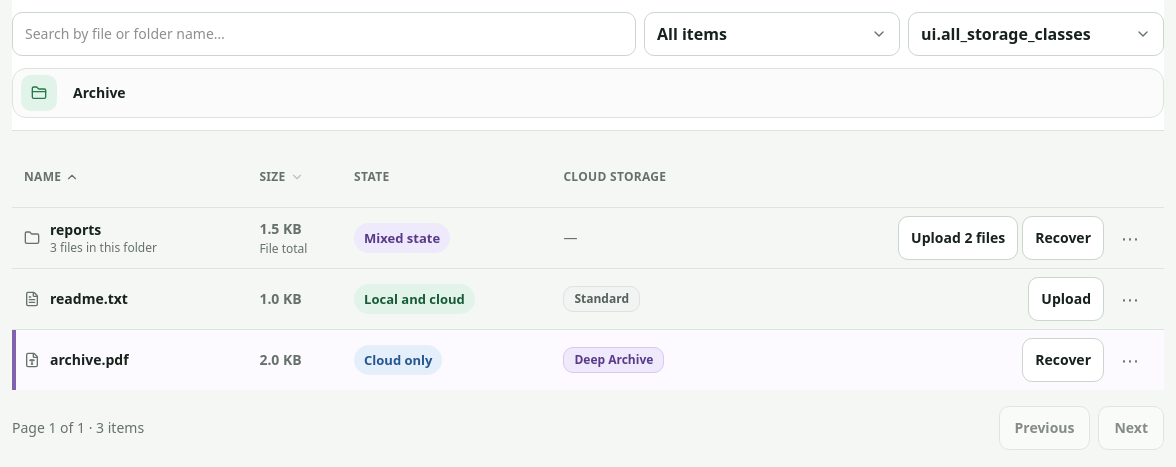
Test: File operations — seams 1–10 › seam 10: operation error surfaces the localized message and leaves the row usable
Expected: the element with test id "desktop-actions-readme.txt" is shown, [1028,277,1152,321]
Click the button "Upload" at (1066, 299), box [1028,277,1104,321]
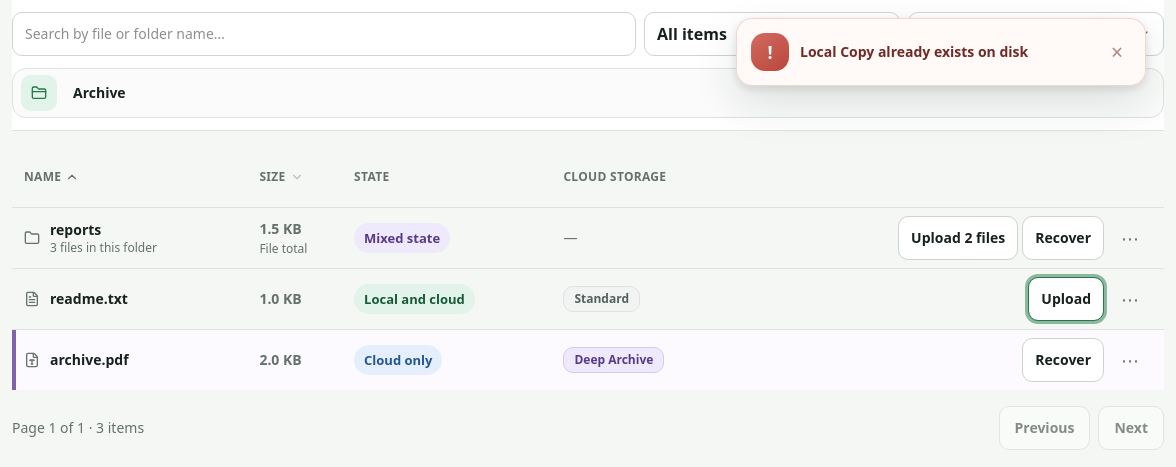
Expected: the text "Local Copy already exists on disk" is shown, [800,42,1028,61]
